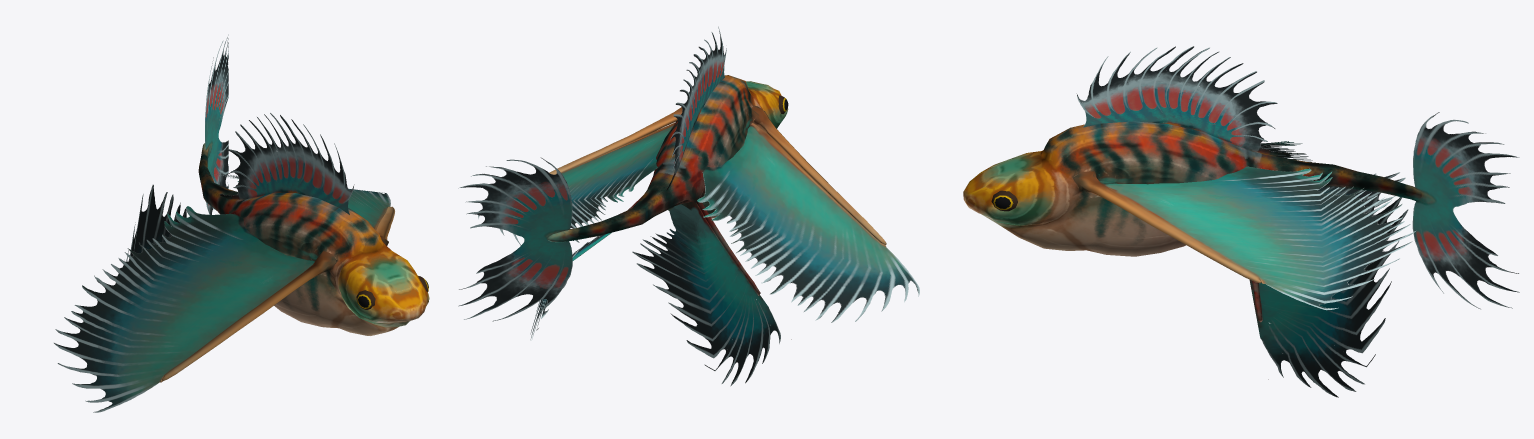
The model's file is fish_000037.obj.
3 renders of one model, left to right at view 1: azimuth 30°, elevation 25°; view 2: azimuth 150°, elevation 25°; view 3: azimuth 270°, elevation 25°, orthographic. The views are drawn at different scales.
Parts seen in each view (by area): view 1: flyingFish_low_StingrayPBS1_0; view 2: flyingFish_low_StingrayPBS1_0; view 3: flyingFish_low_StingrayPBS1_0.
Part boxes in pixels (left/top/right/bottom): flyingFish_low_StingrayPBS1_0: left=54, top=34, right=429, bottom=412; flyingFish_low_StingrayPBS1_0: left=458, top=26, right=919, bottom=386; flyingFish_low_StingrayPBS1_0: left=963, top=46, right=1519, bottom=397.
Bounding box in the file's own units: 16.93 × 13.39 × 19.15.
Materials: 1 (1 with a texture image).
